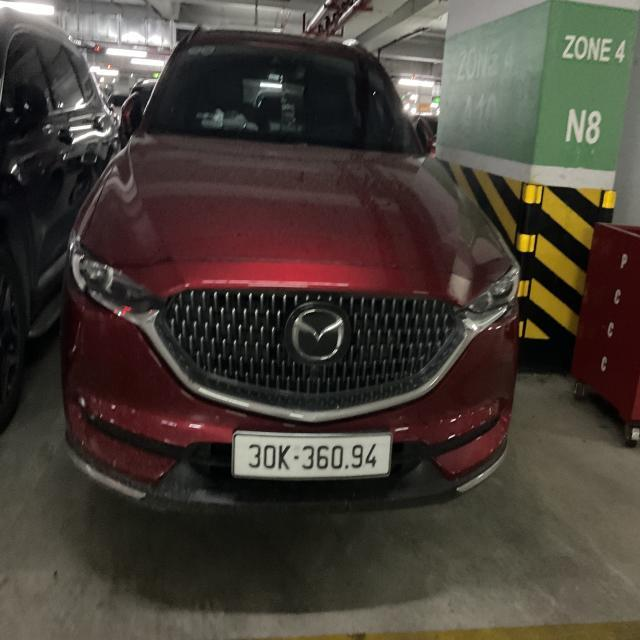license: (230, 430, 392, 480)
